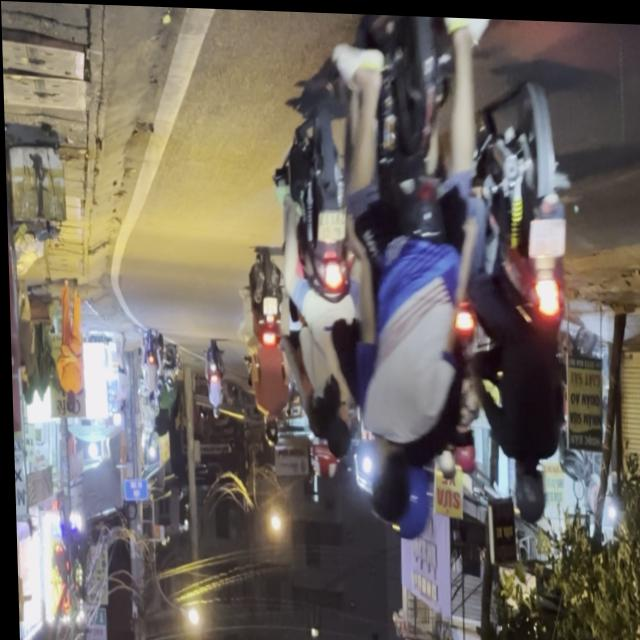helmet: (390, 438, 436, 537), (510, 460, 545, 521), (303, 427, 334, 478)
licenseplate: (314, 9, 496, 539), (458, 74, 580, 525), (269, 72, 363, 485)
motorcyclist: (363, 433, 407, 525), (316, 389, 351, 460)
nohelmet: (527, 214, 565, 253), (316, 209, 345, 240)
